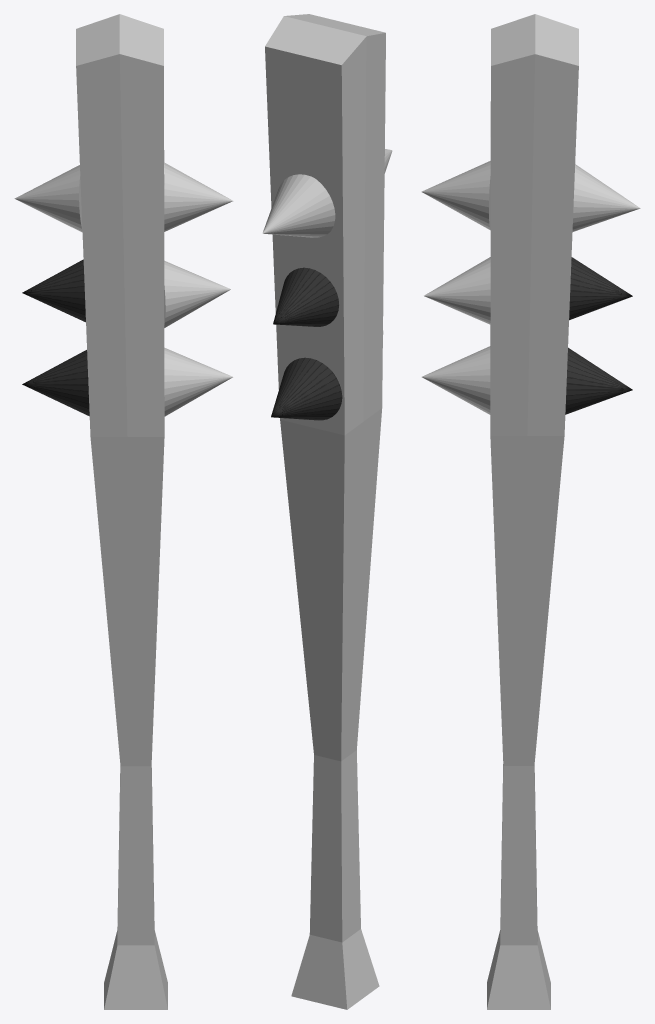
File: myWeaponUVMapFinal(1).fbx
The picture shows the model from 3 angles, left to right: view 1: azimuth 90°, elevation 25°; view 2: azimuth 150°, elevation 25°; view 3: azimuth 270°, elevation 25°; orthographic projection.
Parts seen in each view (by area): view 1: Cube, Cone.002; view 2: Cube, Cone.002; view 3: Cube, Cone.002.
Boxes of the visible parts, <box> form: Cube: <box>76,14,167,1009</box>; Cone.002: <box>14,162,232,416</box>; Cube: <box>265,14,385,1009</box>; Cone.002: <box>262,149,392,420</box>; Cube: <box>487,14,578,1009</box>; Cone.002: <box>421,161,640,414</box>.
Bounding box in the file's own units: 36.42 × 408 × 84.29.
